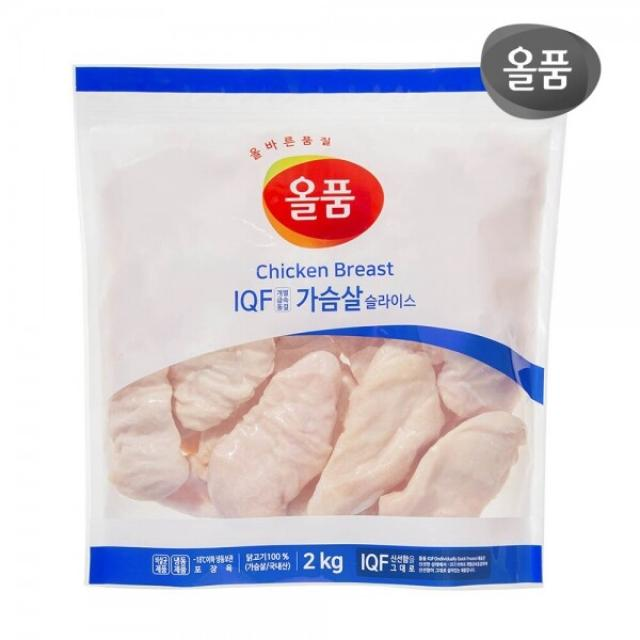chicken: (67, 70, 566, 598)
